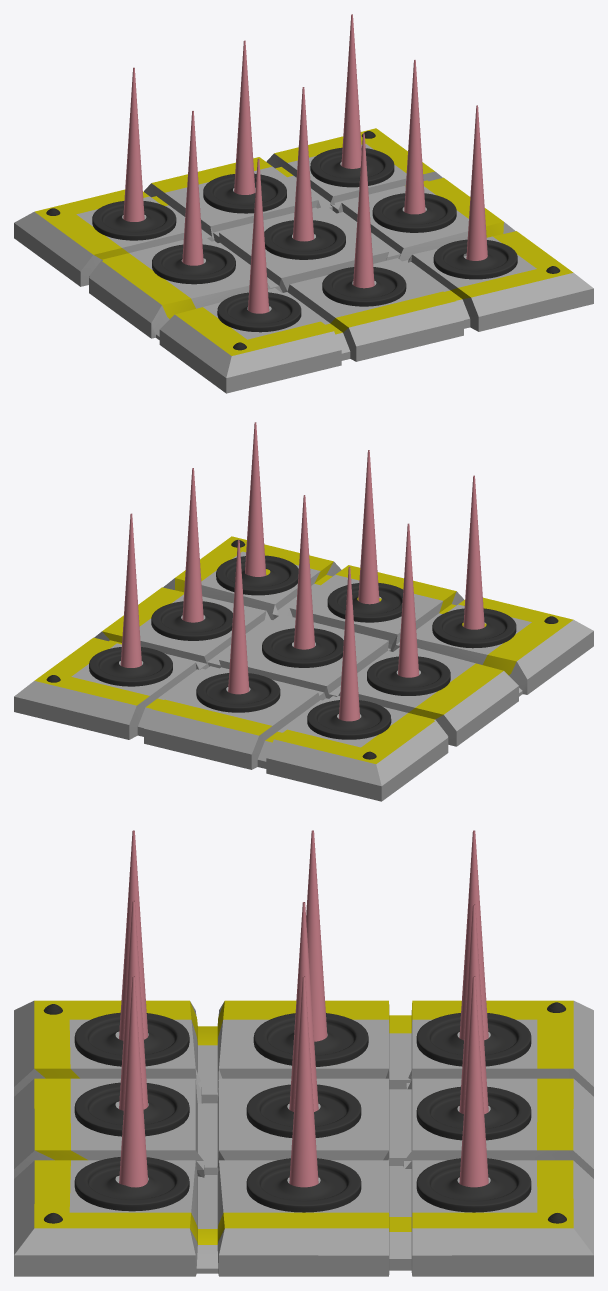
Rendered from Spikes2.fbx.
The picture shows the model from 3 angles, top to bottom: view 1: azimuth 30°, elevation 25°; view 2: azimuth 150°, elevation 25°; view 3: azimuth 270°, elevation 25°; orthographic projection. The views are drawn at different scales.
Visible parts, largest first — view 1: pCube1, polySurface8, polySurface3, polySurface9, polySurface6, polySurface7, polySurface10, polySurface1, polySurface4, polySurface5, polySurface12, polySurface13 (+7 smaller); view 2: pCube1, polySurface8, polySurface5, polySurface6, polySurface4, polySurface7, polySurface1, polySurface3, polySurface10, polySurface9, polySurface11, polySurface17 (+7 smaller); view 3: pCube1, polySurface4, polySurface3, polySurface10, polySurface9, polySurface1, polySurface6, polySurface5, polySurface8, polySurface7, polySurface18, polySurface11 (+7 smaller).
Boxes of the visible parts, <box> form: pCube1: <box>14,128,593,393</box>; polySurface8: <box>217,292,301,332</box>; polySurface3: <box>372,193,456,232</box>; polySurface9: <box>322,267,406,306</box>; polySurface6: <box>92,201,176,240</box>; polySurface7: <box>152,244,235,284</box>; polySurface10: <box>433,239,517,279</box>; polySurface1: <box>264,220,345,259</box>; polySurface4: <box>310,147,394,187</box>; polySurface5: <box>203,173,286,213</box>; polySurface12: <box>466,105,487,260</box>; polySurface13: <box>353,133,374,288</box>; pCube1: <box>14,536,593,801</box>; polySurface8: <box>432,608,516,648</box>; polySurface5: <box>196,673,280,712</box>; polySurface6: <box>307,700,391,739</box>; polySurface4: <box>89,647,172,686</box>; polySurface7: <box>367,656,450,695</box>; polySurface1: <box>262,628,343,667</box>; polySurface3: <box>151,601,232,640</box>; polySurface10: <box>216,555,298,595</box>; polySurface9: <box>327,583,403,622</box>; polySurface11: <box>182,468,203,622</box>; polySurface17: <box>228,539,249,694</box>; pCube1: <box>14,1000,593,1276</box>; polySurface4: <box>416,1158,531,1212</box>; polySurface3: <box>246,1158,361,1212</box>; polySurface10: <box>74,1157,189,1211</box>; polySurface9: <box>74,1082,189,1136</box>; polySurface1: <box>246,1084,361,1137</box>; polySurface6: <box>416,1013,531,1066</box>; polySurface5: <box>416,1086,531,1140</box>; polySurface8: <box>74,1012,189,1066</box>; polySurface7: <box>253,1013,368,1066</box>; polySurface18: <box>459,976,488,1187</box>; polySurface11: <box>289,976,318,1187</box>.
Size of the model in its own units: 2.11 by 1.01 by 2.11.
